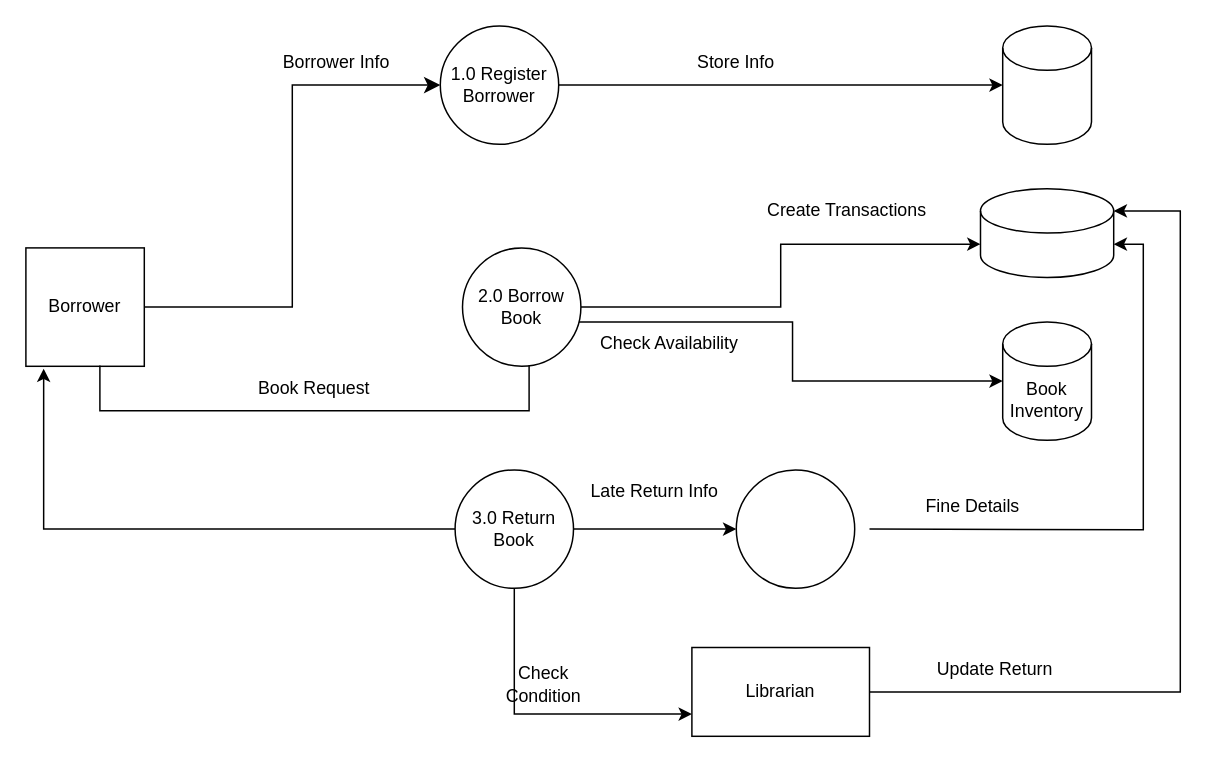
The diagram is 1218 pixels wide and 762 high, and some of its shapes have lost their labels. Here are the shapes that lost their labels. From the top down, the centre of each, then its label:
(1046,84): Borrower Records
(1046,232): Transactions Records
(795,528): 4.0 Calculate Fine
